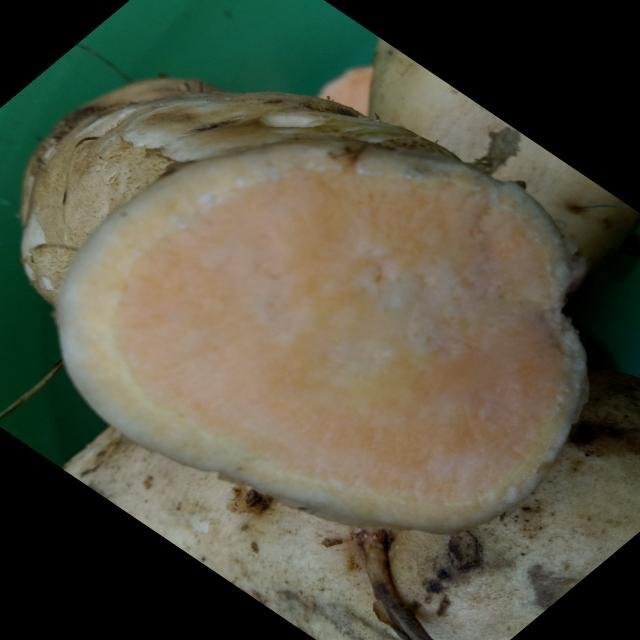Healthy Sweet Potato: (57, 140, 587, 534)
